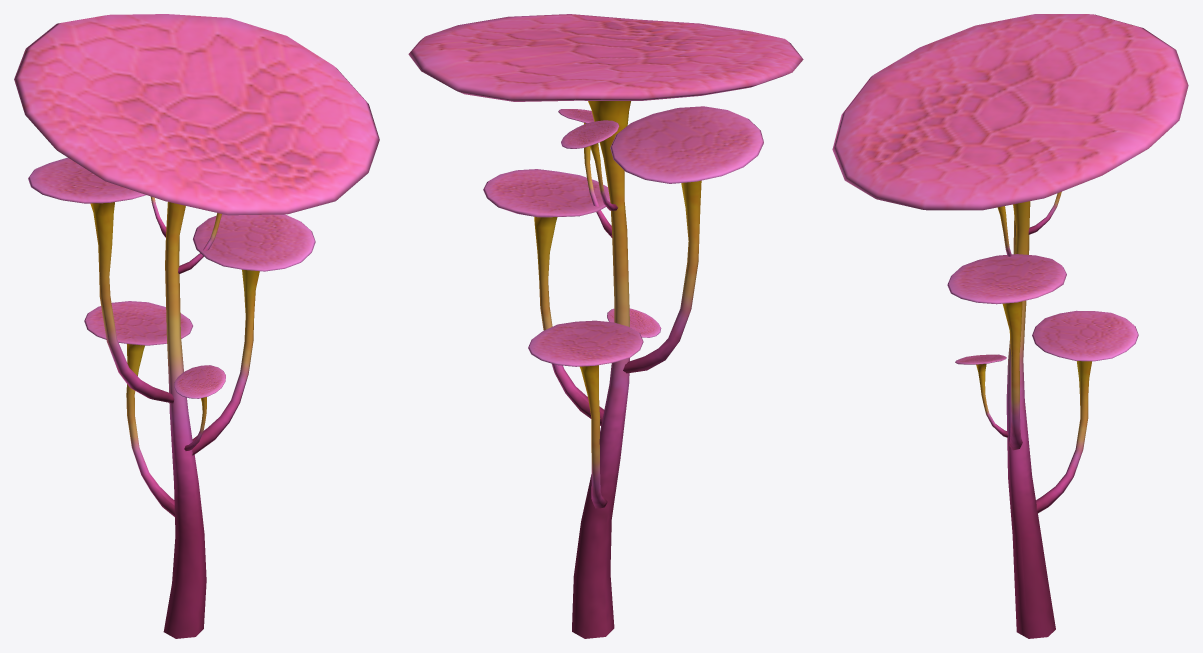
The model's file is Cartoon Seaweed_13-2-3.fbx.
The picture shows the model from 3 angles, left to right: view 1: azimuth 30°, elevation 25°; view 2: azimuth 150°, elevation 25°; view 3: azimuth 270°, elevation 25°; orthographic projection. The views are drawn at different scales.
Parts seen in each view (by area): view 1: Cartoon Seaweed_13.2.3; view 2: Cartoon Seaweed_13.2.3; view 3: Cartoon Seaweed_13.2.3.
Boxes of the visible parts, x1=… form: Cartoon Seaweed_13.2.3: x1=14, y1=14, x2=379, y2=638; Cartoon Seaweed_13.2.3: x1=408, y1=14, x2=803, y2=638; Cartoon Seaweed_13.2.3: x1=832, y1=14, x2=1188, y2=638.
Size of the model in its own units: 43.18 by 74.44 by 43.1.
1 material, 1 textured.
